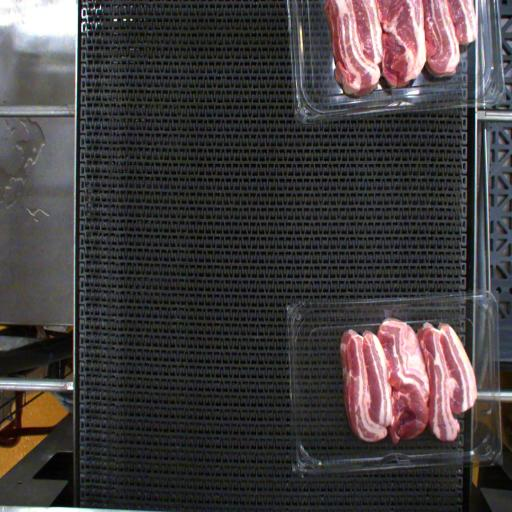packaging-error: (370, 296, 411, 330)
